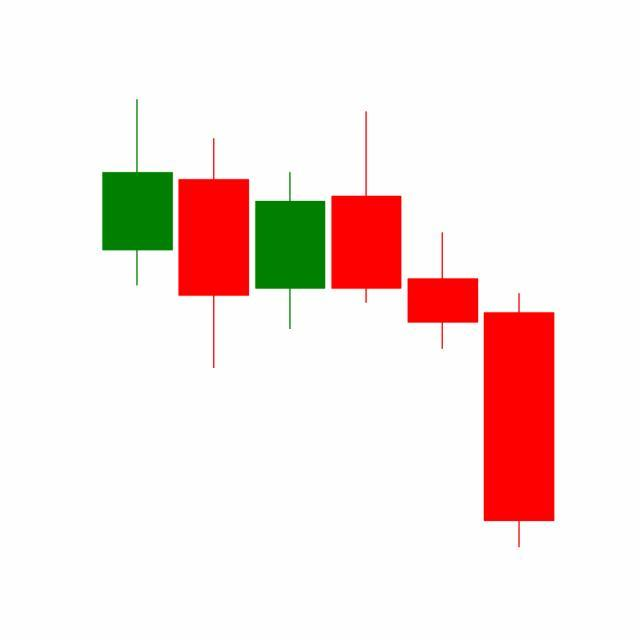Hikkake Pattern: (175, 107, 555, 549)
